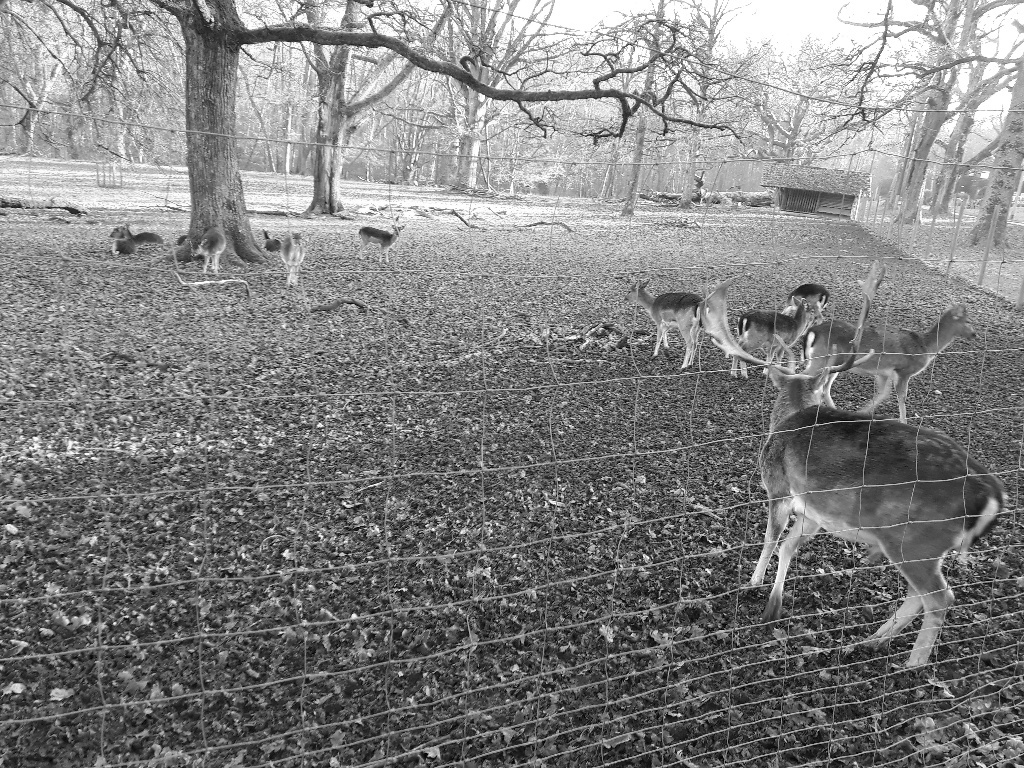Deer: (748, 359, 1009, 674), (793, 298, 984, 418), (626, 278, 703, 370)
